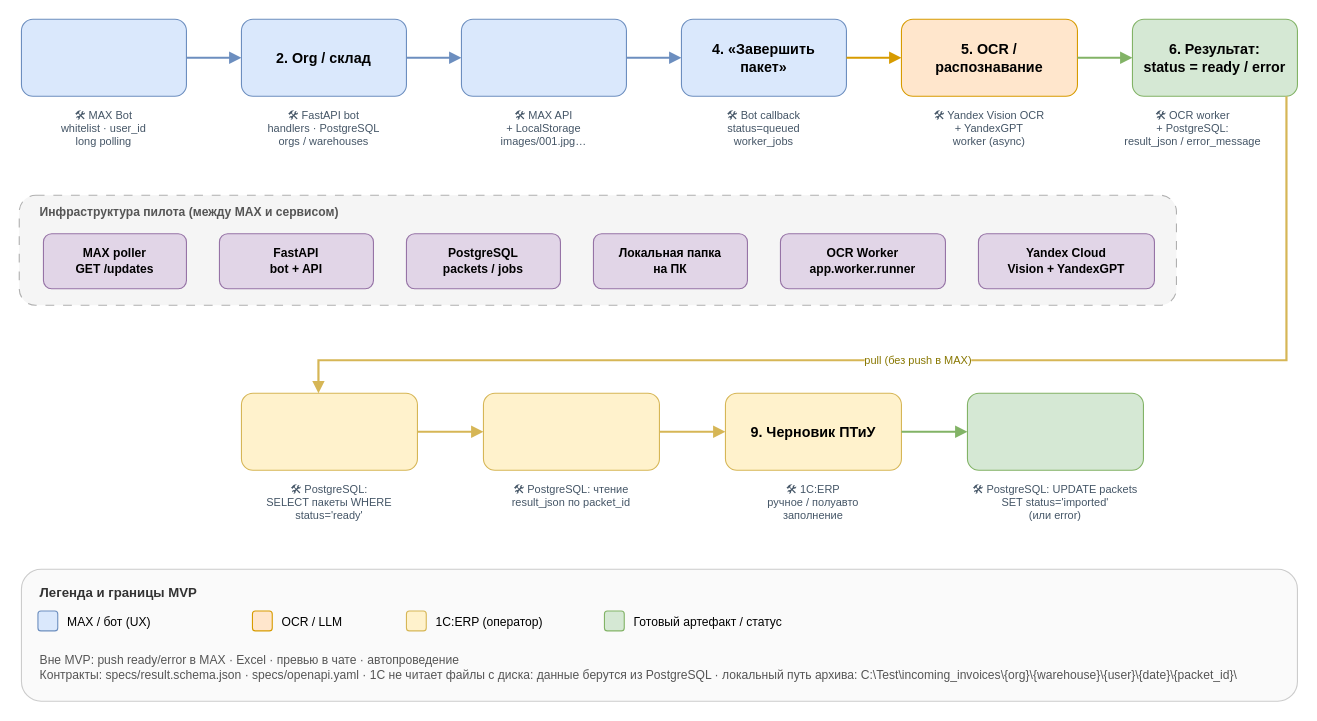
This 1317x721 diagram has some shape labels left out. Here are the shapes that lost their labels. From the top down, the centre of each, then its label:
At point 103,57: "1. Пользователь в MAX".
At point 543,57: "3. Фото страниц ТОРГ-12 / УПД".
At point 328,431: "7. 1С: обновить список ready".
At point 570,431: "8. Оператор: выбор пакета в списке".
At point 1054,431: "10. 1С: запись status = imported".
